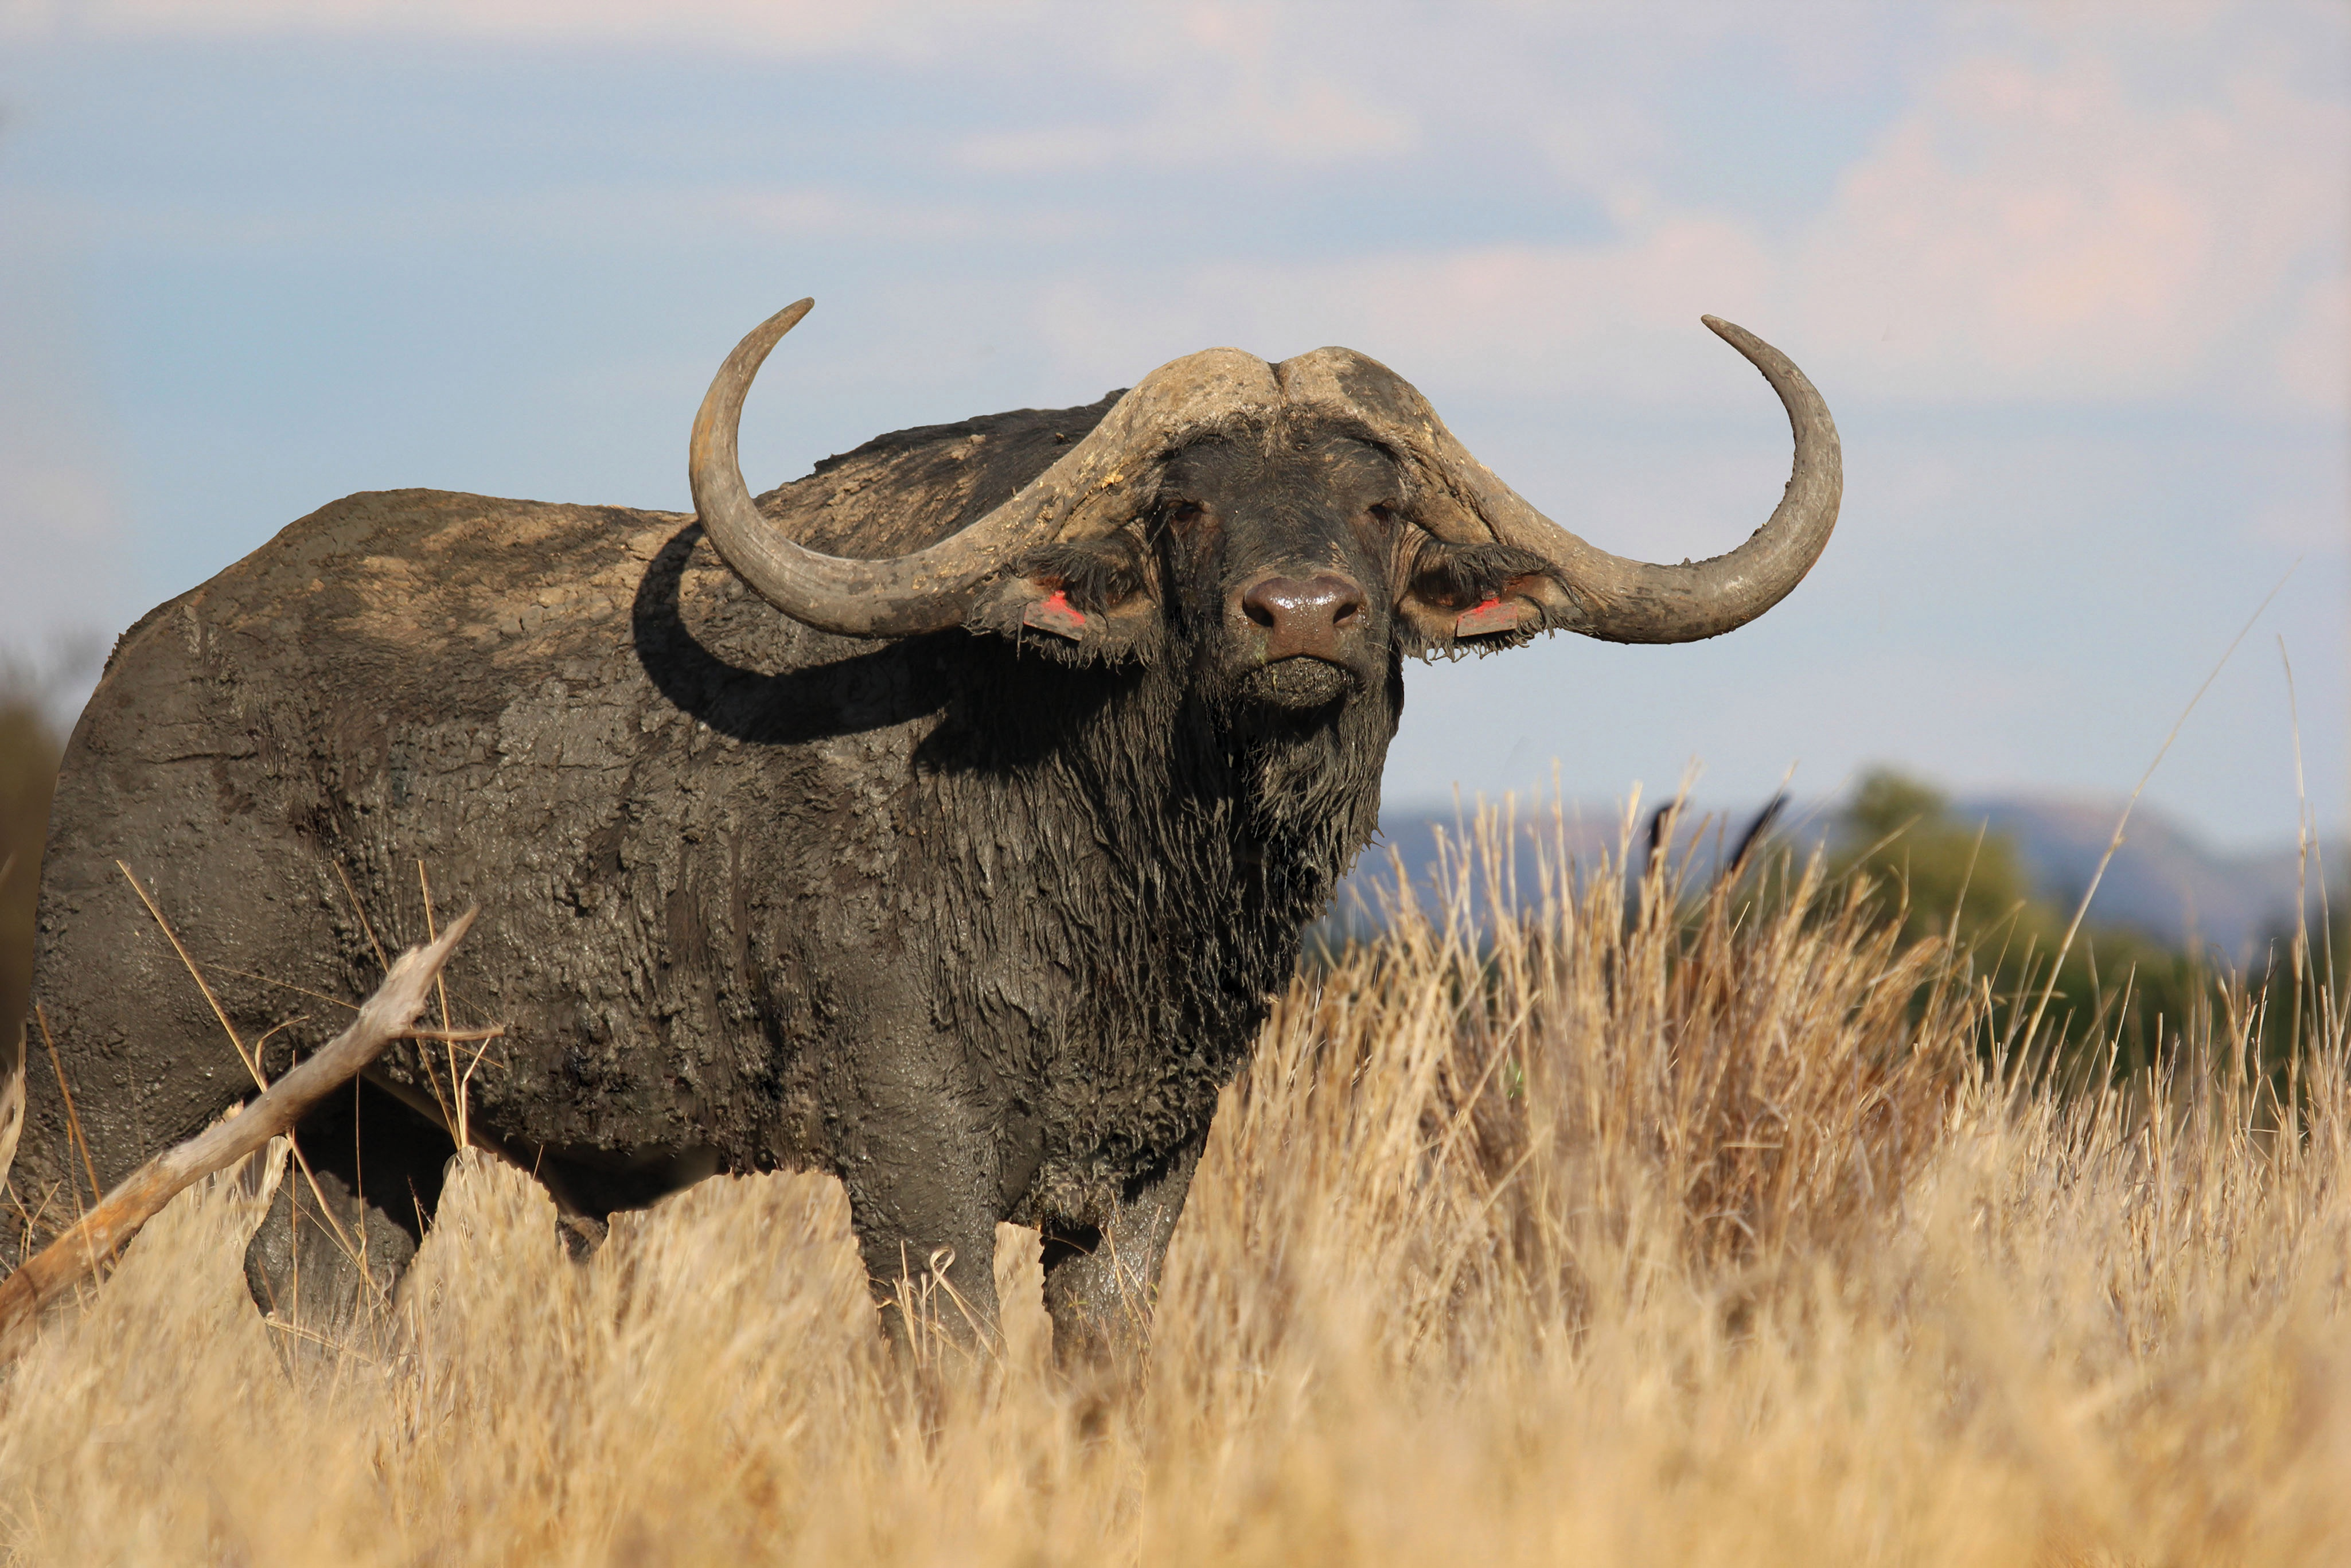buffalo: (3, 282, 1840, 1414)
